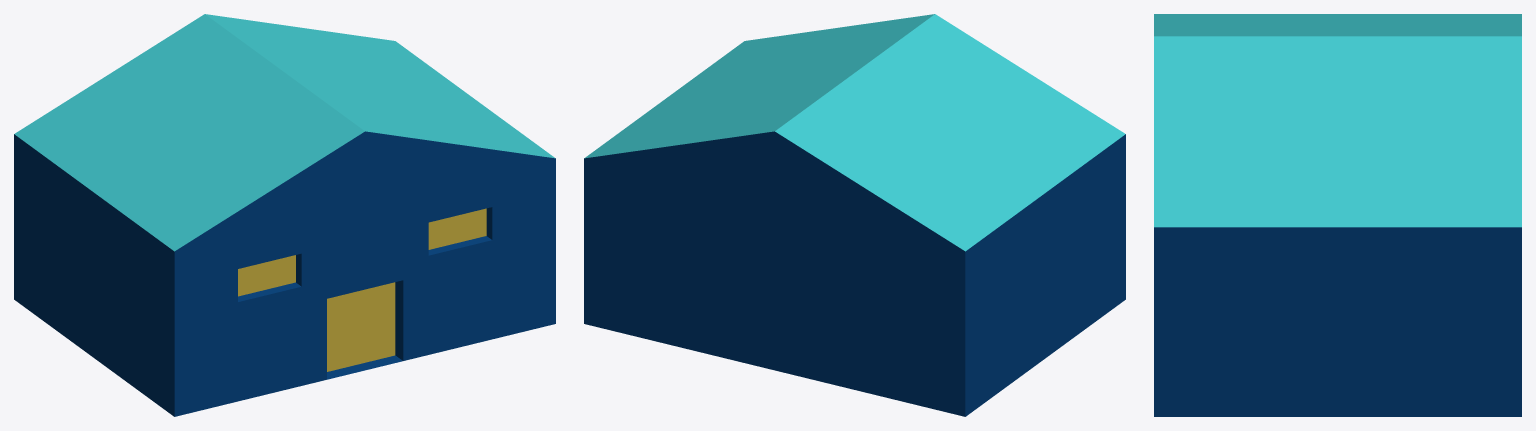
The model's file is lowessmall5.gltf.
The picture shows the model from 3 angles, left to right: view 1: azimuth 30°, elevation 25°; view 2: azimuth 150°, elevation 25°; view 3: azimuth 270°, elevation 25°; orthographic projection. The views are drawn at different scales.
Parts seen in each view (by area): view 1: Cube; view 2: Cube; view 3: Cube.
Part boxes in pixels (<box>): Cube: <box>14,14,555,416</box>; Cube: <box>584,14,1125,416</box>; Cube: <box>1154,14,1521,416</box>.
Bounding box in the file's own units: 1.06 × 0.6323 × 0.7691.
